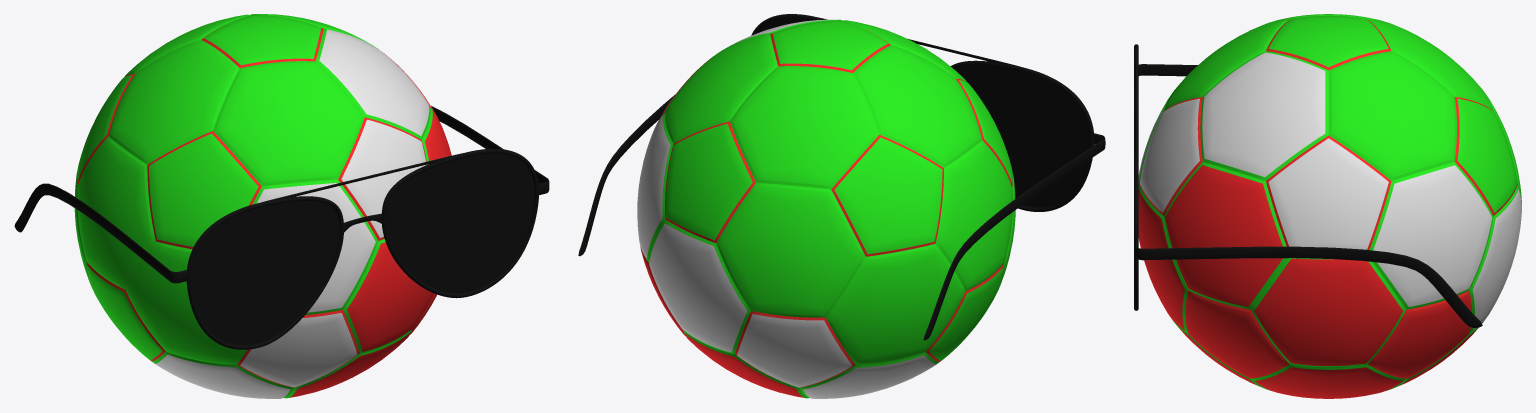
Rendered from Balonita.glb.
The picture shows the model from 3 angles, left to right: view 1: azimuth 30°, elevation 25°; view 2: azimuth 150°, elevation 25°; view 3: azimuth 270°, elevation 25°; orthographic projection.
Visible parts, largest first — view 1: Esfera geodésica, Círculo Bezier, Círculo Bezier.001, Cubo.002, Cubo.003, Cubo.001; view 2: Esfera geodésica, Círculo Bezier, Cubo.002, Cubo.003, Círculo Bezier.001; view 3: Esfera geodésica, Cubo.003, Círculo Bezier.001, Cubo.002, Círculo Bezier.
Boxes of the visible parts, <box> form: Esfera geodésica: <box>74,14,451,398</box>; Círculo Bezier: <box>186,196,343,349</box>; Círculo Bezier.001: <box>381,148,538,298</box>; Cubo.002: <box>14,183,187,283</box>; Cubo.003: <box>431,106,549,195</box>; Cubo.001: <box>252,151,473,205</box>; Esfera geodésica: <box>637,19,1015,398</box>; Círculo Bezier: <box>950,60,1094,211</box>; Cubo.002: <box>923,133,1105,340</box>; Cubo.003: <box>578,95,674,256</box>; Círculo Bezier.001: <box>751,14,823,35</box>; Esfera geodésica: <box>1138,14,1521,398</box>; Cubo.003: <box>1135,243,1482,327</box>; Círculo Bezier.001: <box>1134,137,1138,310</box>; Cubo.002: <box>1138,64,1197,76</box>; Círculo Bezier: <box>1134,44,1138,138</box>.
Bounding box in the file's own units: 2 × 1.75 × 1.76.
